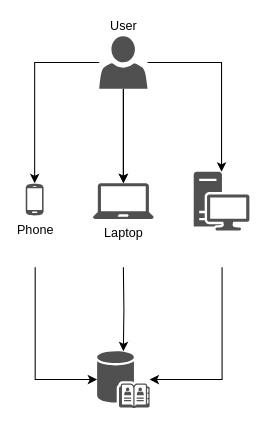
Image size: 273x447. Some labels were removed from this diagram. The shapes that lost their labels are listed below. From the top down, each one's box as (x1, y1, x2, y2) in pixels, then its label:
(193, 171, 249, 230): Workstation
(97, 351, 149, 407): Database
